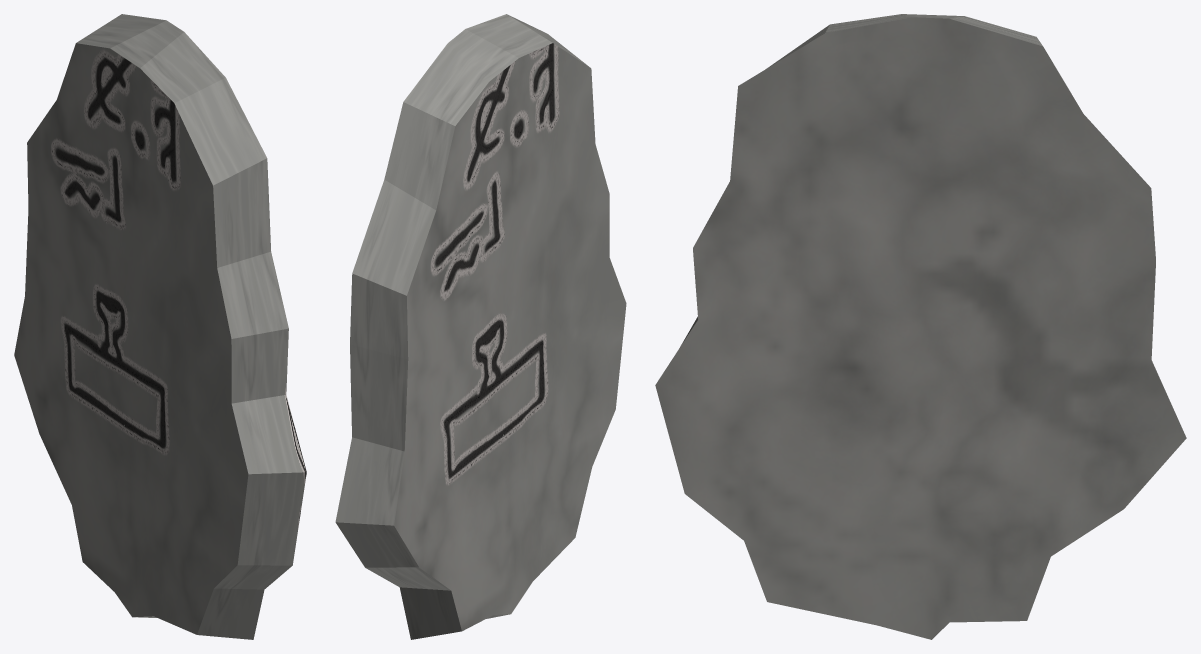
The model's file is StoneTablet1.fbx.
The picture shows the model from 3 angles, left to right: view 1: azimuth 30°, elevation 25°; view 2: azimuth 150°, elevation 25°; view 3: azimuth 270°, elevation 25°; orthographic projection. The views are drawn at different scales.
Parts seen in each view (by area): view 1: Tablet1.001; view 2: Tablet1.001; view 3: Tablet1.001.
Part boxes in pixels (bbox=[...]): Tablet1.001: bbox=[14, 14, 306, 639]; Tablet1.001: bbox=[335, 14, 626, 639]; Tablet1.001: bbox=[655, 14, 1186, 639].
Bounding box in the file's own units: 16.86 × 195 × 150.
Materials: 1 (1 with a texture image).
